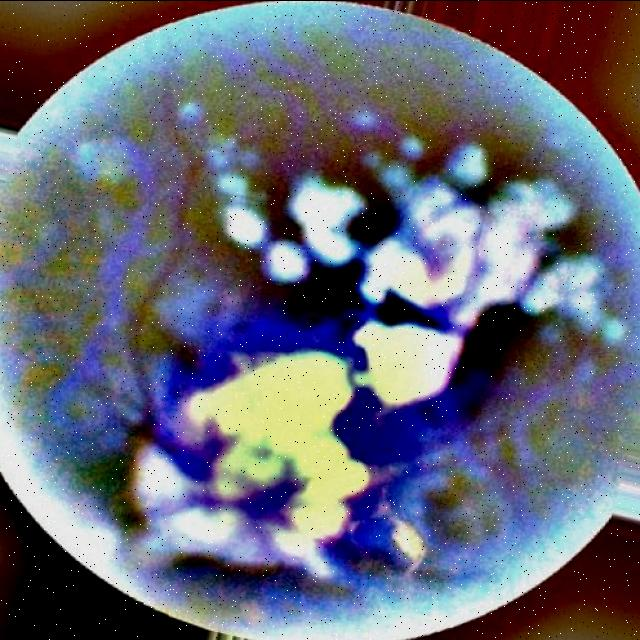Nerves: (124, 137, 202, 435)
Optic Disk: (129, 440, 272, 561)
